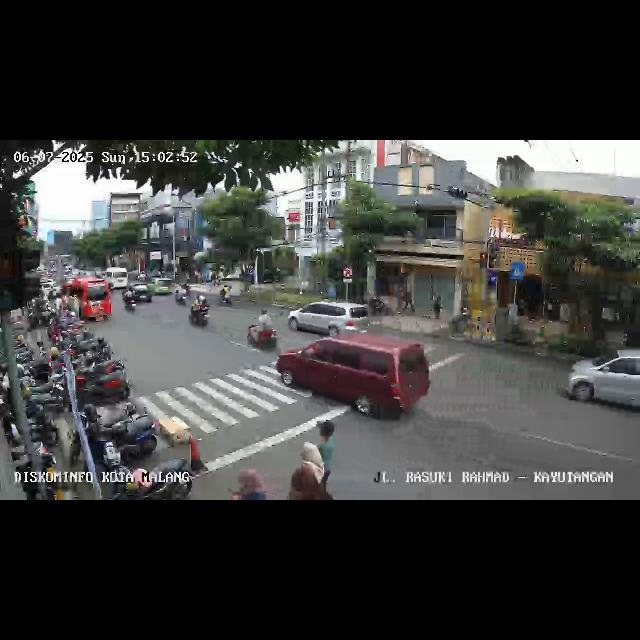car: (278, 334, 432, 424), (564, 349, 640, 419), (288, 299, 369, 337), (62, 278, 112, 324), (124, 283, 154, 305), (106, 268, 128, 288), (152, 278, 176, 296)
motorcycle: (248, 309, 278, 353), (188, 294, 212, 328), (124, 285, 138, 311), (220, 284, 232, 308), (175, 284, 188, 304)
person: (288, 440, 330, 500), (309, 418, 335, 499), (228, 468, 270, 499)
